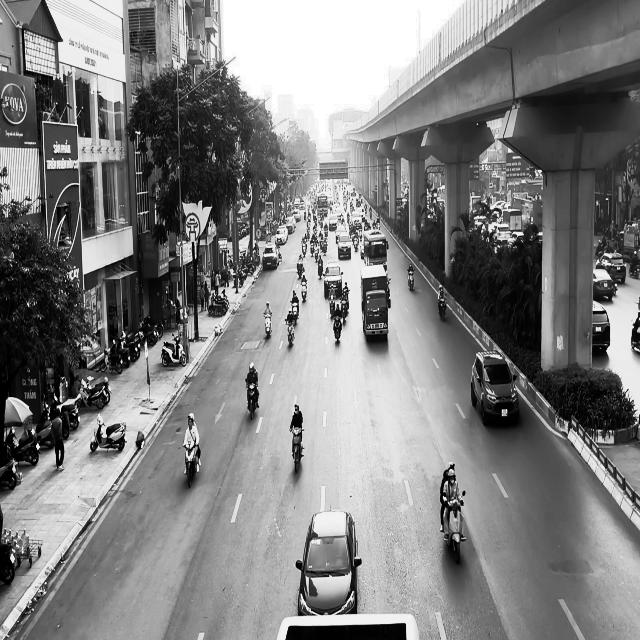car: (295, 509, 362, 616), (470, 350, 520, 425), (592, 300, 610, 352)
motorbike: (441, 490, 466, 564), (90, 413, 126, 452), (160, 334, 187, 366), (183, 441, 201, 487), (290, 426, 304, 473), (245, 380, 259, 419), (285, 318, 295, 347), (263, 312, 272, 338), (438, 294, 447, 320), (333, 315, 341, 340), (407, 269, 414, 290), (301, 278, 307, 300)
